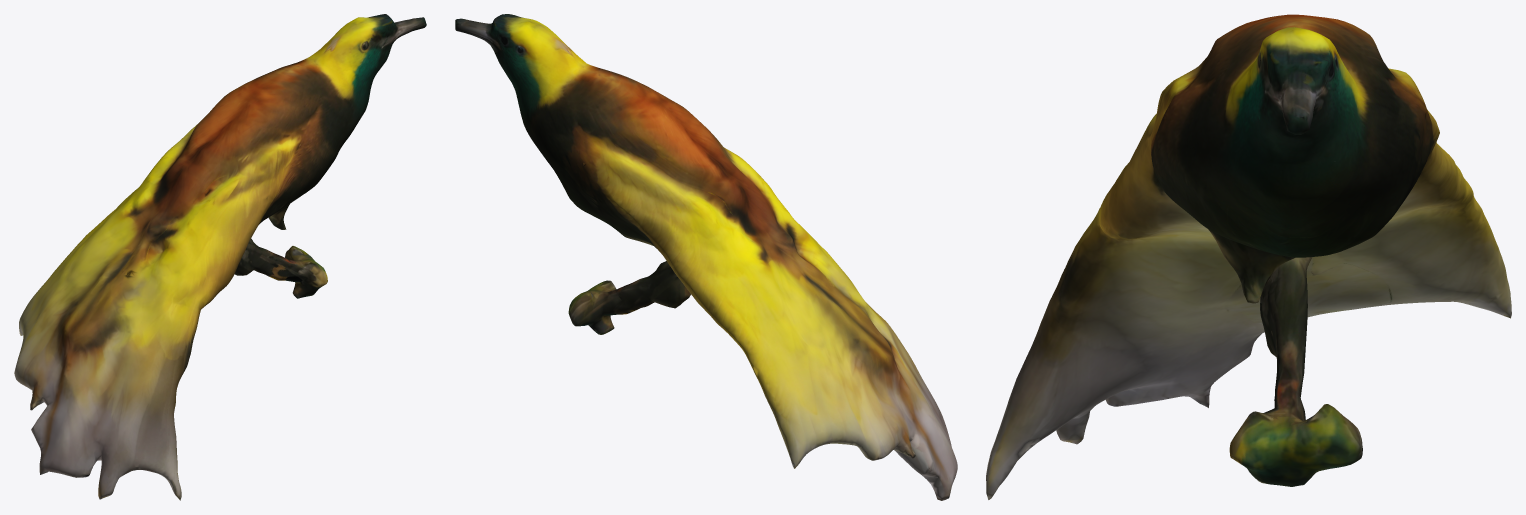
File: pngwing_com_1_remov_0710175913.fbx
3 views of the same model, side by side, from view 1: azimuth 30°, elevation 25°; view 2: azimuth 150°, elevation 25°; view 3: azimuth 270°, elevation 25° (orthographic). The views are drawn at different scales.
Visible parts, largest first — view 1: Mesh_0; view 2: Mesh_0; view 3: Mesh_0.
Boxes of the visible parts, left/top/right/bottom form: Mesh_0: left=14, top=14, right=426, bottom=500; Mesh_0: left=455, top=14, right=957, bottom=500; Mesh_0: left=986, top=14, right=1511, bottom=499.
Bounding box in the file's own units: 120 × 101 × 66.73.
Materials: 1 (1 with a texture image).
